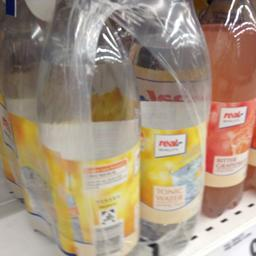soda: (34, 0, 140, 254), (130, 0, 210, 248), (196, 0, 254, 217)
